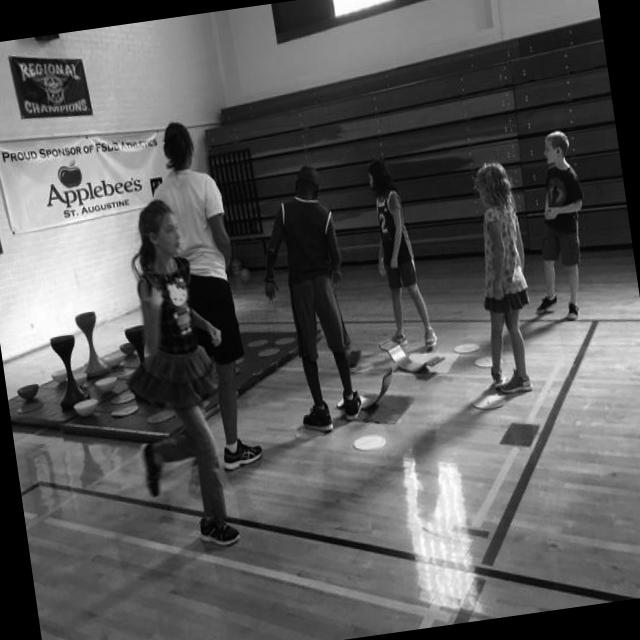person: (100, 172, 246, 541), (142, 110, 266, 486), (248, 158, 369, 437), (457, 157, 548, 399), (359, 146, 440, 362), (513, 129, 602, 324)
